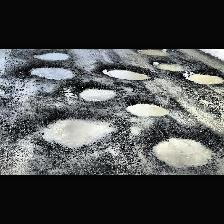pothole: (36, 113, 120, 150), (148, 134, 216, 170), (26, 63, 78, 81), (100, 64, 152, 80), (124, 101, 168, 117), (76, 85, 116, 102), (184, 71, 224, 85), (31, 52, 71, 60), (154, 61, 186, 71), (135, 50, 171, 56)
